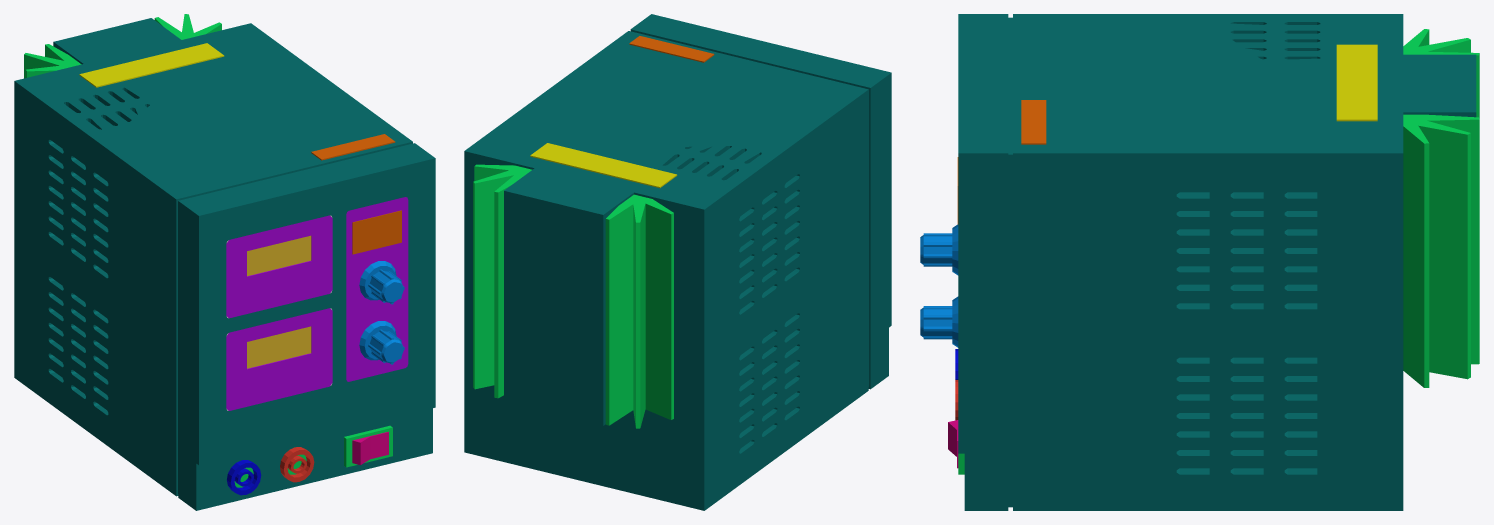
File: PowerSupply.fbx
The picture shows the model from 3 angles, left to right: view 1: azimuth 30°, elevation 25°; view 2: azimuth 150°, elevation 25°; view 3: azimuth 270°, elevation 25°; orthographic projection. The views are drawn at different scales.
Visible parts, largest first — view 1: PowerSupply; view 2: PowerSupply; view 3: PowerSupply.
Boxes of the visible parts, box(x1,y1,x2,y2) form: PowerSupply: box(14, 14, 435, 510); PowerSupply: box(464, 14, 891, 510); PowerSupply: box(920, 14, 1479, 510).
Size of the model in its own units: 17.3 by 20.82 by 29.36.
